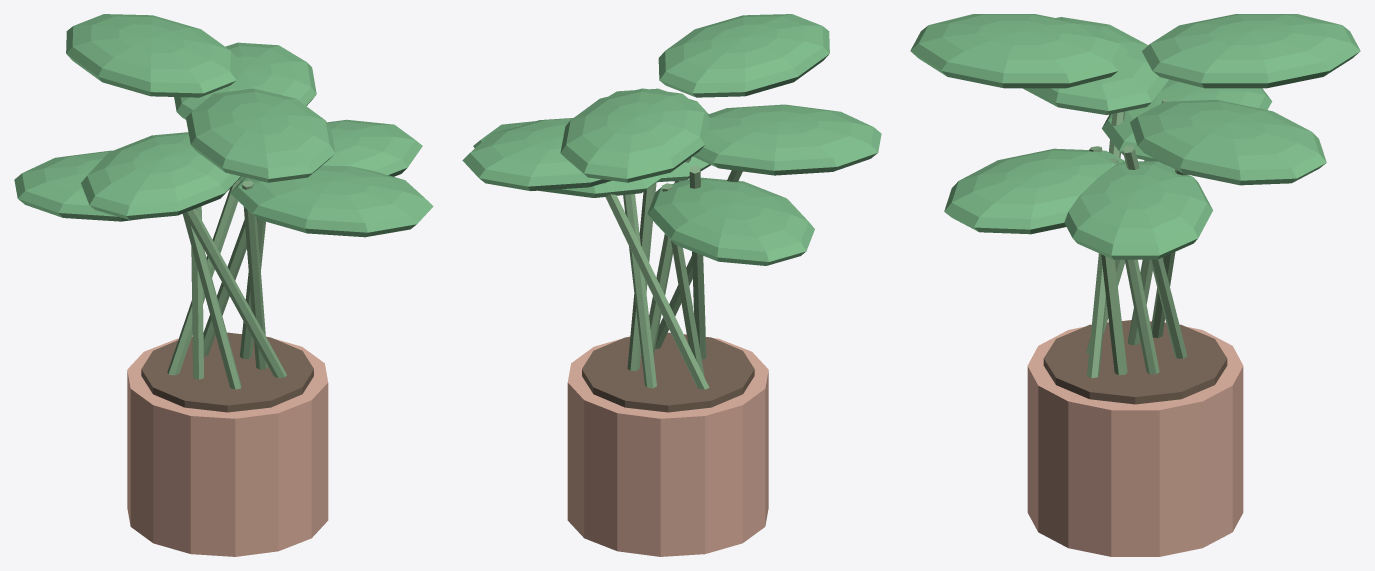
Rendered from th_pflanze.glb.
3 renders of one model, left to right at view 1: azimuth 30°, elevation 25°; view 2: azimuth 150°, elevation 25°; view 3: azimuth 270°, elevation 25°, orthographic. The views are drawn at different scales.
Visible parts, largest first — view 1: pflanze; view 2: pflanze; view 3: pflanze.
Part boxes in pixels (x1,y1,x2,y2): pflanze: (14,14,433,556); pflanze: (462,14,881,556); pflanze: (910,14,1360,556).
Size of the model in its own units: 0.8136 by 0.96 by 0.8345.
